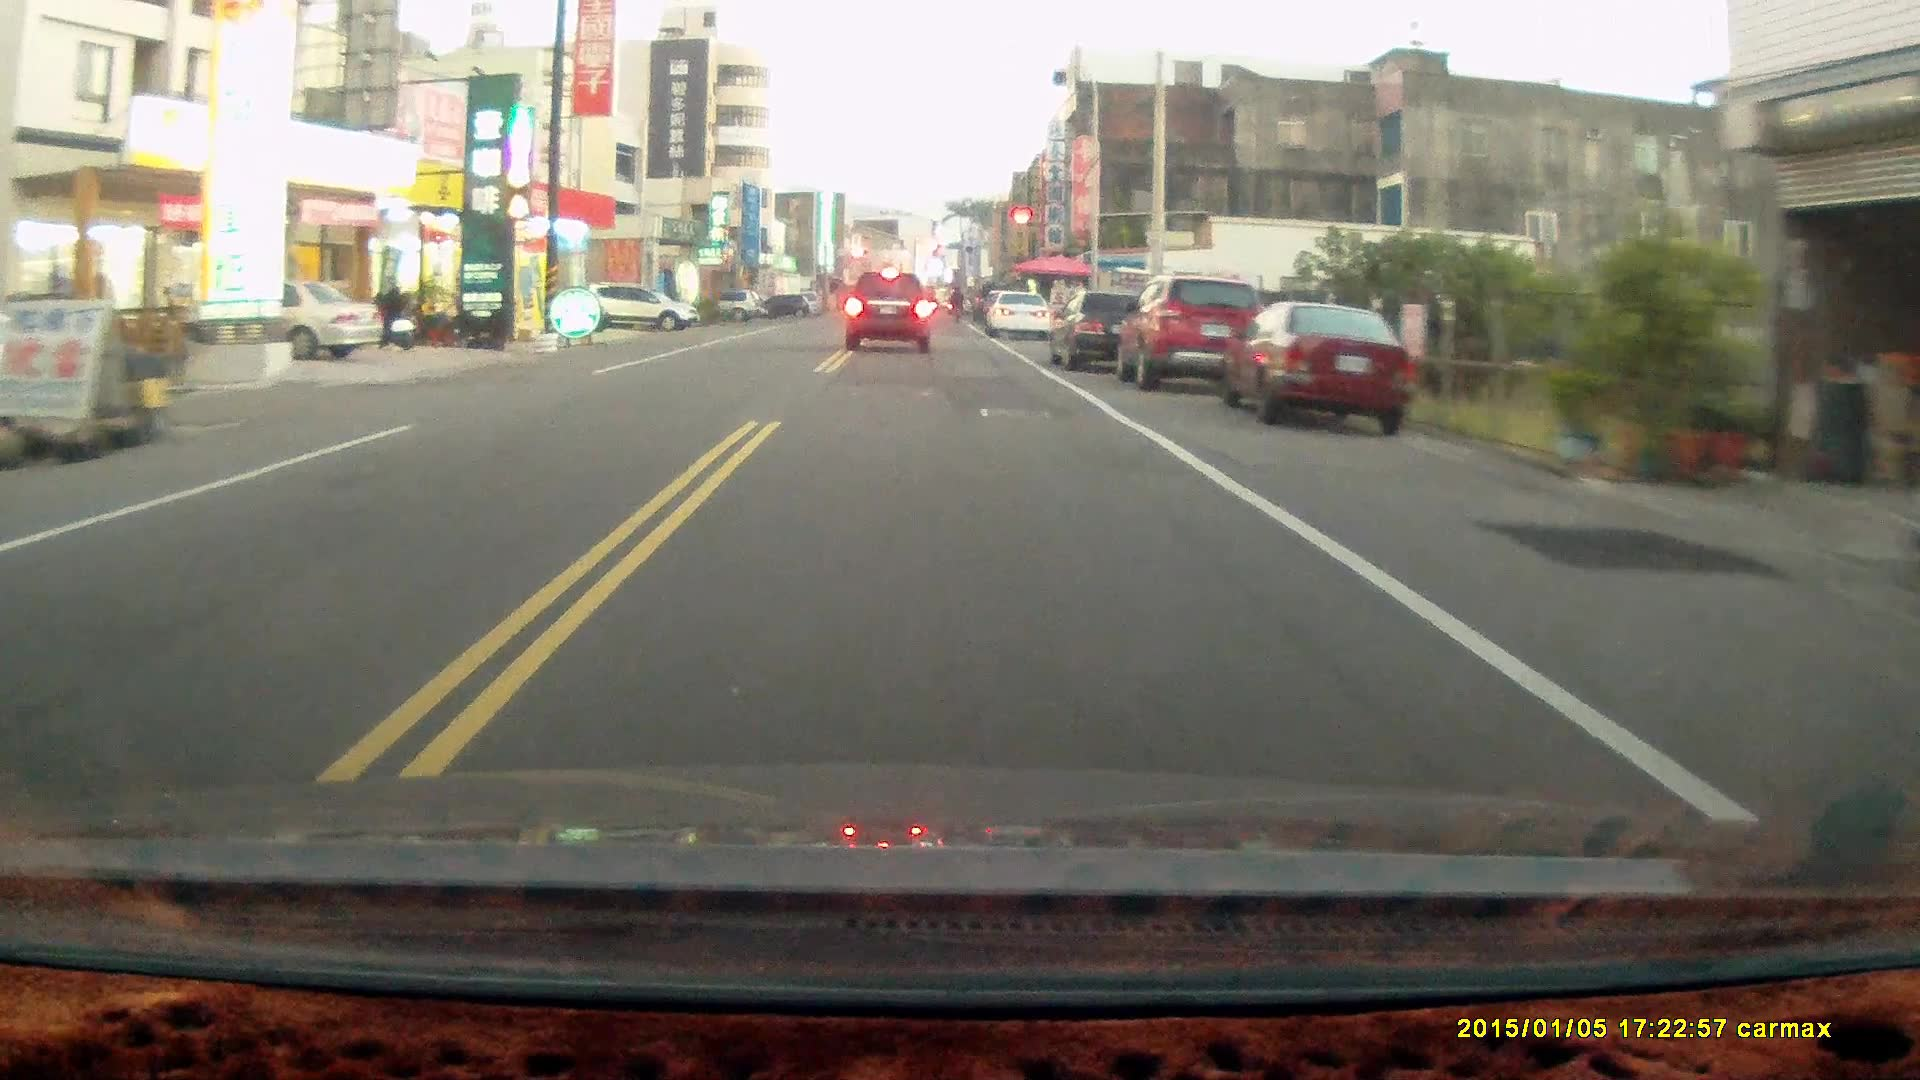vehicle: (1218, 301, 1422, 433), (1120, 276, 1273, 392), (182, 280, 384, 364), (1048, 291, 1170, 372), (844, 270, 935, 355), (585, 281, 696, 328), (986, 290, 1054, 343)
